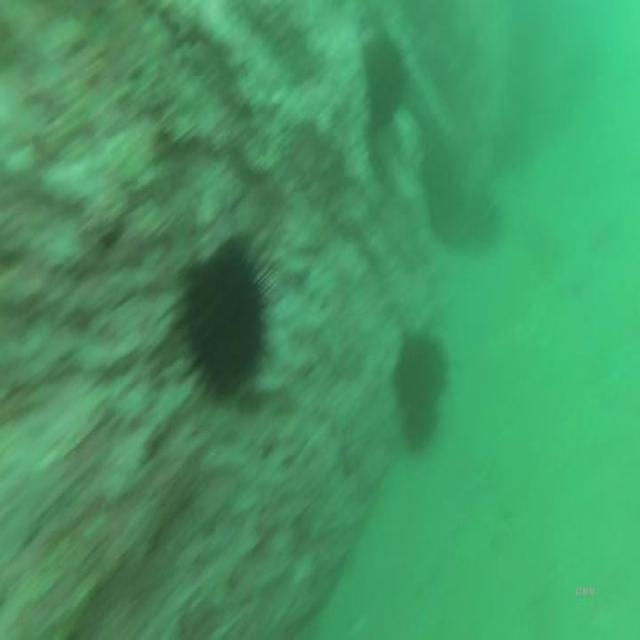echinus: (176, 232, 271, 402), (393, 321, 451, 463), (362, 28, 412, 133), (452, 174, 504, 262)
